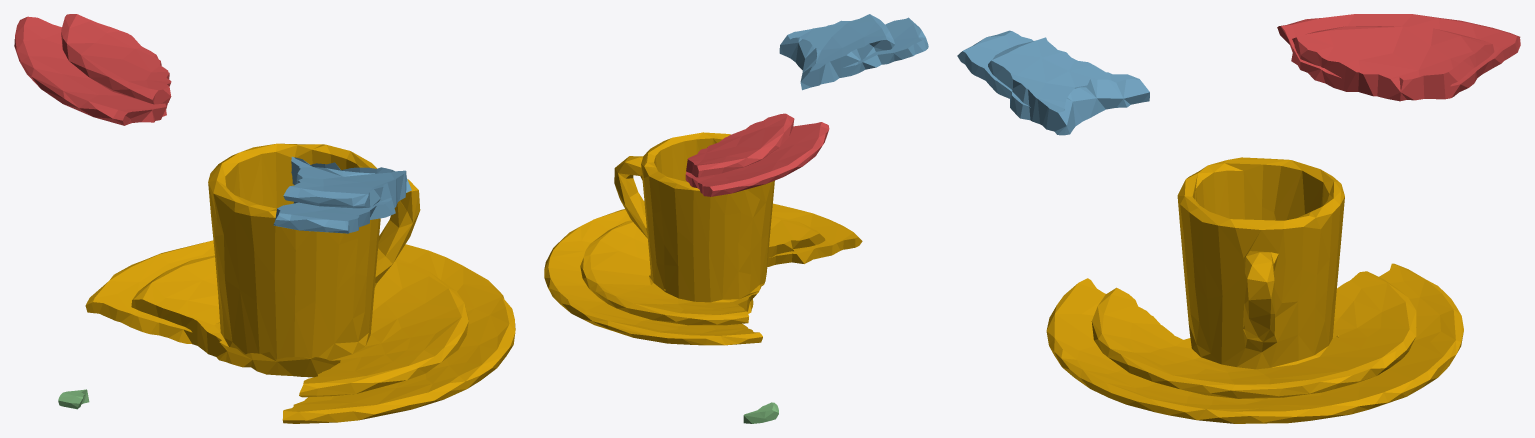
File: fractured_39_4pcs_transformed.glb
The picture shows the model from 3 angles, left to right: view 1: azimuth 30°, elevation 25°; view 2: azimuth 150°, elevation 25°; view 3: azimuth 270°, elevation 25°; orthographic projection. The views are drawn at different scales.
Visible parts, largest first — view 1: piece_0.obj, piece_1.obj, piece_2.obj, piece_3.obj; view 2: piece_0.obj, piece_1.obj, piece_2.obj, piece_3.obj; view 3: piece_0.obj, piece_1.obj, piece_2.obj.
Part boxes in pixels (<box>): piece_0.obj: <box>85,143,515,423</box>; piece_1.obj: <box>14,14,171,125</box>; piece_2.obj: <box>273,156,411,233</box>; piece_3.obj: <box>58,389,89,409</box>; piece_0.obj: <box>544,132,862,345</box>; piece_1.obj: <box>685,113,829,196</box>; piece_2.obj: <box>779,14,928,90</box>; piece_3.obj: <box>743,402,778,423</box>; piece_0.obj: <box>1046,157,1463,423</box>; piece_1.obj: <box>1277,14,1520,101</box>; piece_2.obj: <box>957,30,1149,135</box>.
Bounding box in the file's own units: 0.9934 × 0.8994 × 1.35.
